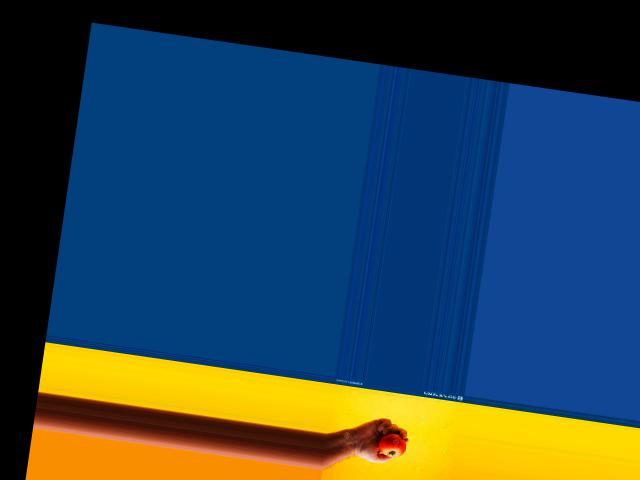tomato: (377, 431, 407, 458)
